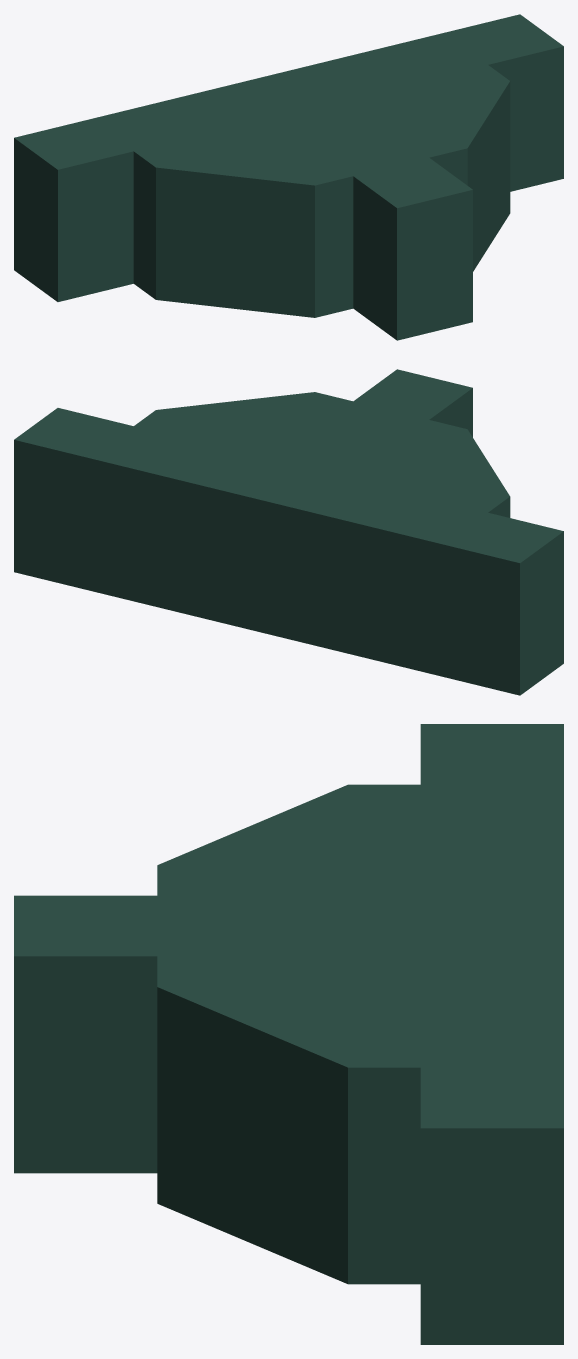
Rendered from W2_WallCorner_Angular2C_Top.fbx.
The picture shows the model from 3 angles, top to bottom: view 1: azimuth 30°, elevation 25°; view 2: azimuth 150°, elevation 25°; view 3: azimuth 270°, elevation 25°; orthographic projection. The views are drawn at different scales.
Visible parts, largest first — view 1: W2_WallCorner_Angular2C_Top.001; view 2: W2_WallCorner_Angular2C_Top.001; view 3: W2_WallCorner_Angular2C_Top.001.
Boxes of the visible parts, box(x1,y1,x2,y2) form: W2_WallCorner_Angular2C_Top.001: box(14, 14, 563, 340); W2_WallCorner_Angular2C_Top.001: box(14, 369, 563, 695); W2_WallCorner_Angular2C_Top.001: box(14, 724, 563, 1344).
Size of the model in its own units: 2 by 0.5 by 1.15.
